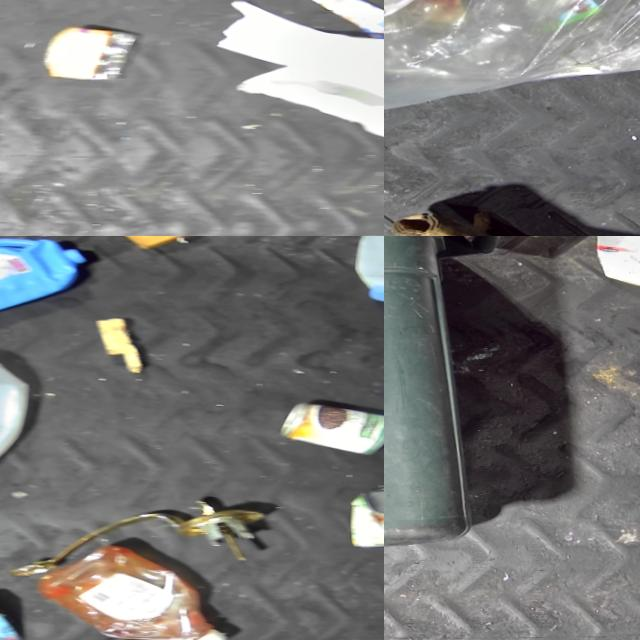can: (276, 401, 384, 458), (346, 487, 384, 550)
milk_jug: (595, 236, 640, 294), (348, 236, 384, 305)
non_white_jug: (33, 540, 236, 640), (0, 236, 89, 323)
